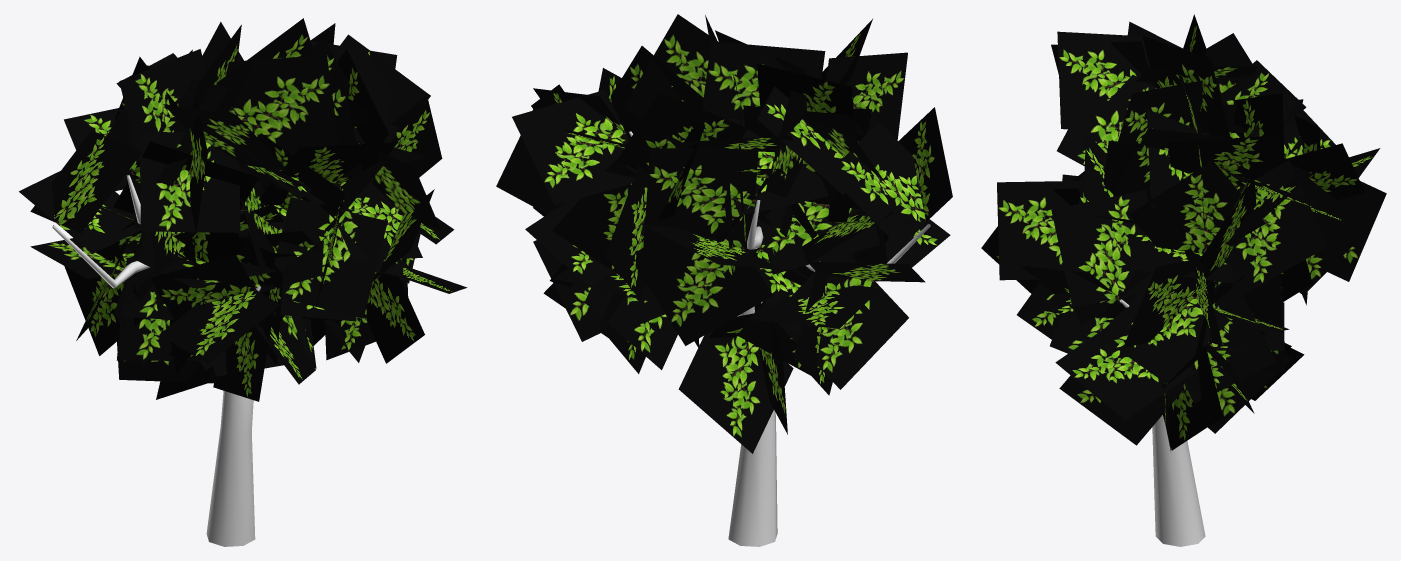
The model's file is Tree3.fbx.
The picture shows the model from 3 angles, left to right: view 1: azimuth 30°, elevation 25°; view 2: azimuth 150°, elevation 25°; view 3: azimuth 270°, elevation 25°; orthographic projection.
Visible parts, largest first — view 1: Tree3; view 2: Tree3; view 3: Tree3.
Part boxes in pixels (left/top/right/bottom): Tree3: left=19, top=18, right=467, bottom=546; Tree3: left=496, top=14, right=952, bottom=546; Tree3: left=981, top=14, right=1386, bottom=546.
Bounding box in the file's own units: 691 × 758 × 562.
